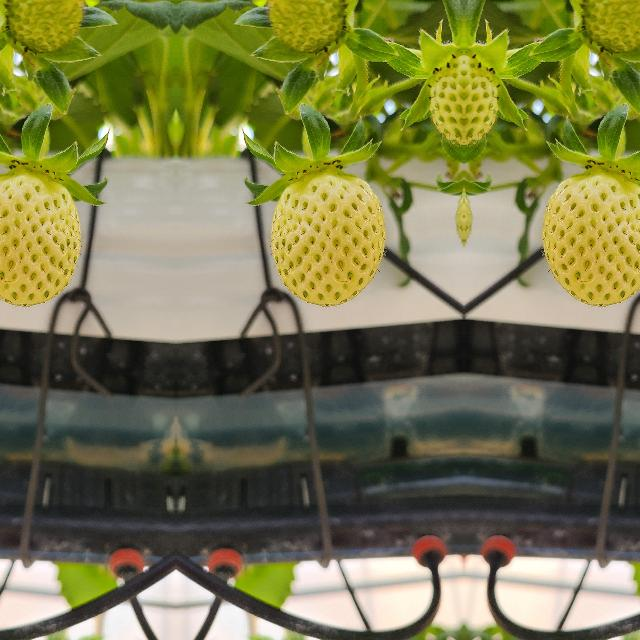Health_25: (269, 172, 385, 306), (541, 172, 640, 305), (0, 172, 81, 305), (264, 0, 353, 54), (0, 0, 85, 54), (572, 0, 640, 54)
